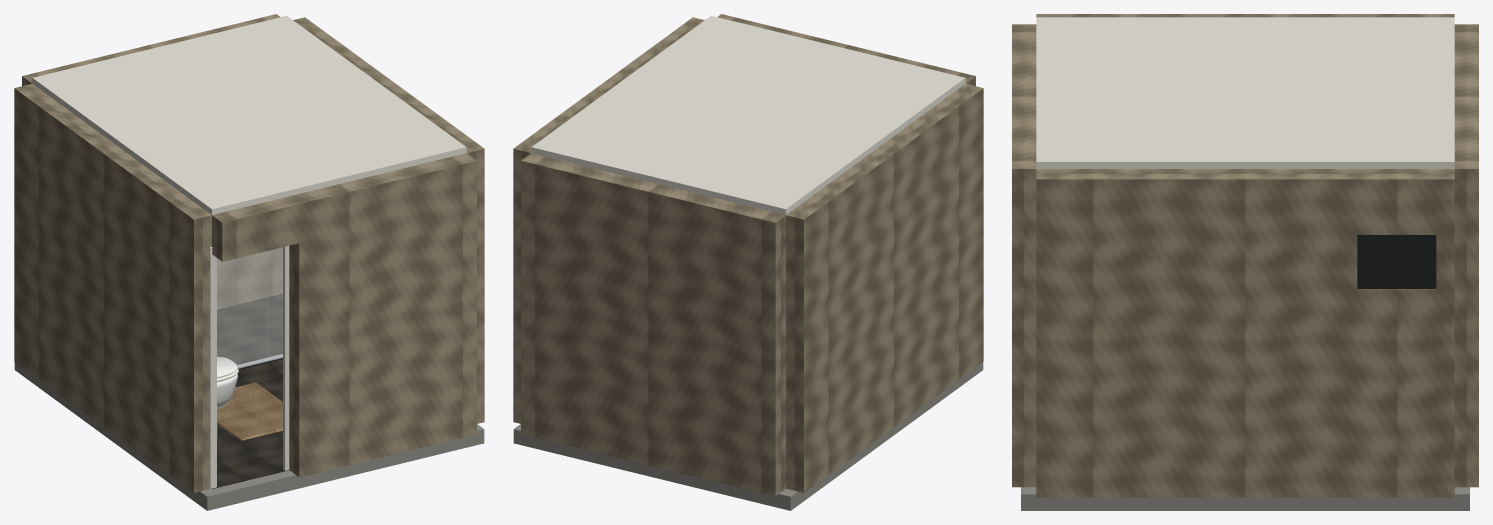
File: 15_Alternatif_5.glb
The picture shows the model from 3 angles, left to right: view 1: azimuth 30°, elevation 25°; view 2: azimuth 150°, elevation 25°; view 3: azimuth 270°, elevation 25°; orthographic projection. The views are drawn at different scales.
Parts seen in each view (by area): view 1: Ön duvar | sunum için gizli, Sol duvar, Tavan | plan görünümünde gizlenir, Zemin taşıyıcı, Kabin sürgülü kapı, Sağ duvar / gerçek pencere boşluğu, Arka duvar / gerçek niş boşlukları, Duş eğimli zemin sınırı 225x100, Dokulu banyo paspası, Zemin seramik / derz 2mm, Kabin ön sabit cam.001, Kapı pervazı (+3 smaller); view 2: Arka duvar / gerçek niş boşlukları, Sol duvar, Tavan | plan görünümünde gizlenir, Zemin taşıyıcı, Sağ duvar / gerçek pencere boşluğu, Ön duvar | sunum için gizli; view 3: Sağ duvar / gerçek pencere boşluğu, Tavan | plan görünümünde gizlenir, Arka duvar / gerçek niş boşlukları, Ön duvar | sunum için gizli, Zemin taşıyıcı, Havalandırma karanlık iç boşluğu, Sol duvar.
Part boxes in pixels (x1,y1,x2,y2): Ön duvar | sunum için gizli: (212, 153, 476, 477); Sol duvar: (14, 83, 211, 492); Tavan | plan görünümünde gizlenir: (32, 16, 466, 214); Zemin taşıyıcı: (14, 362, 484, 510); Kabin sürgülü kapı: (217, 251, 267, 364); Sağ duvar / gerçek pencere boşluğu: (293, 17, 484, 423); Arka duvar / gerçek niş boşlukları: (22, 14, 282, 309); Duş eğimli zemin sınırı 225x100: (217, 293, 282, 369); Dokulu banyo paspası: (217, 382, 282, 440); Zemin seramik / derz 2mm: (212, 443, 279, 488); Kabin ön sabit cam.001: (267, 247, 282, 358); Kapı pervazı: (210, 252, 216, 488); Arka duvar / gerçek niş boşlukları: (521, 153, 785, 496); Sol duvar: (786, 83, 983, 492); Tavan | plan görünümünde gizlenir: (531, 16, 965, 214); Zemin taşıyıcı: (513, 362, 983, 510); Sağ duvar / gerçek pencere boşluğu: (513, 17, 704, 423); Ön duvar | sunum için gizli: (717, 14, 975, 86); Sağ duvar / gerçek pencere boşluğu: (1036, 169, 1454, 497); Tavan | plan görünümünde gizlenir: (1036, 17, 1454, 168); Arka duvar / gerçek niş boşlukları: (1454, 24, 1478, 487); Ön duvar | sunum için gizli: (1012, 24, 1036, 487); Zemin taşıyıcı: (1021, 487, 1469, 510); Havalandırma karanlık iç boşluğu: (1357, 235, 1436, 289); Sol duvar: (1036, 14, 1454, 17).
Size of the model in its own units: 2.57 by 2.49 by 3.07.
16 materials, 5 textured.
